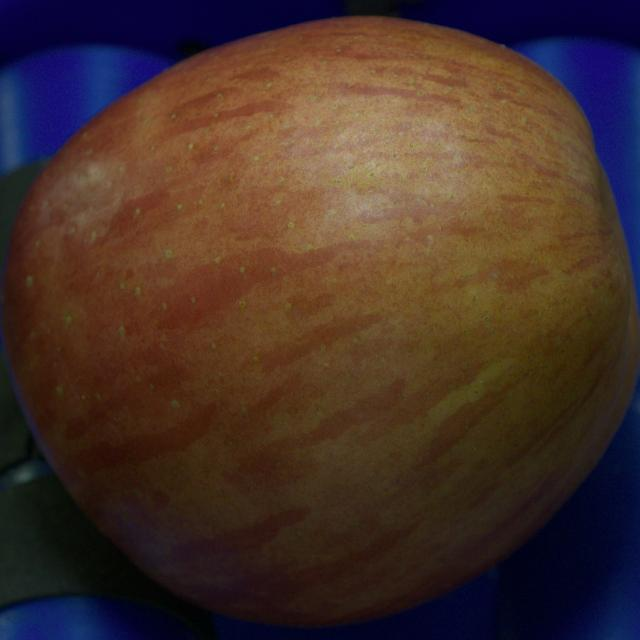apple: (2, 18, 639, 626)
